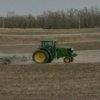Tractor: (22, 26, 76, 72)
